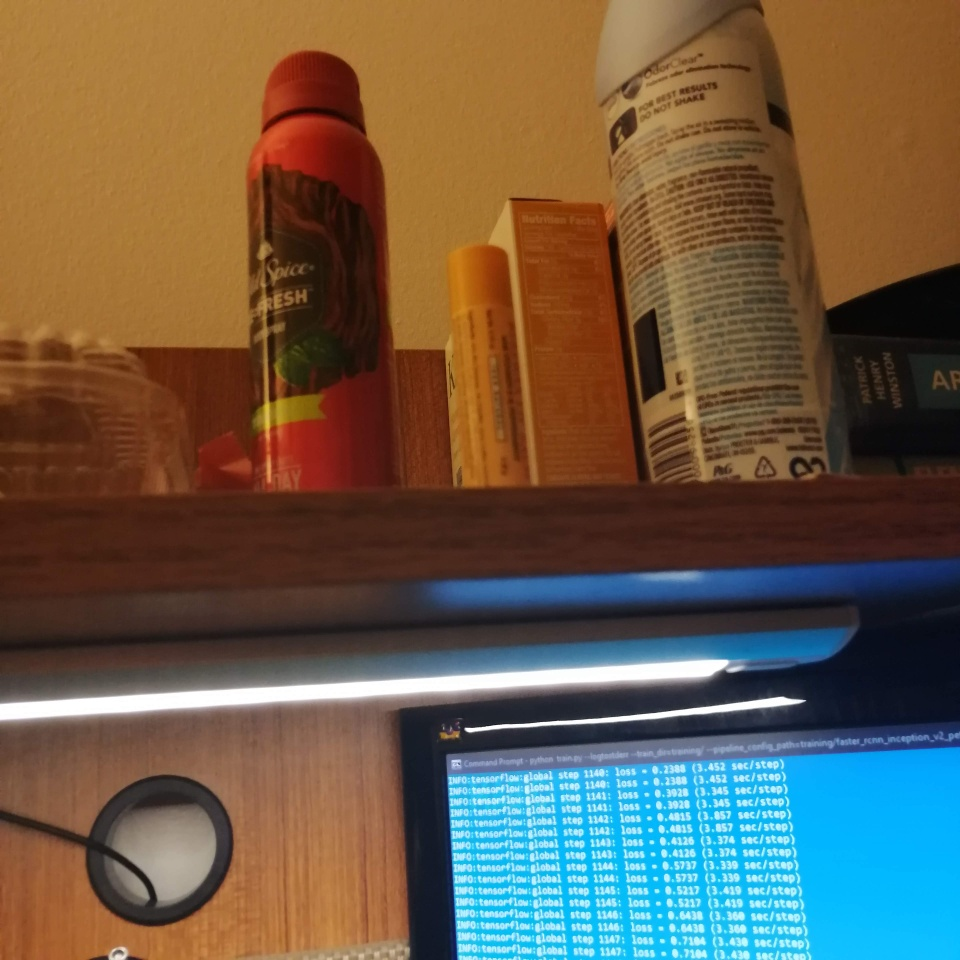chapstick: (446, 244, 535, 491)
